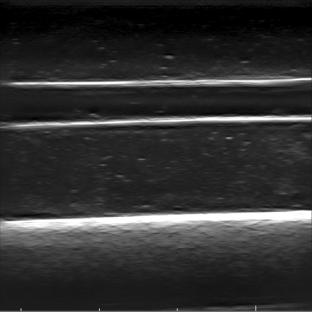vessel: (3, 76, 308, 126)
